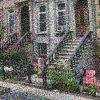stairs: (43, 29, 95, 82)
